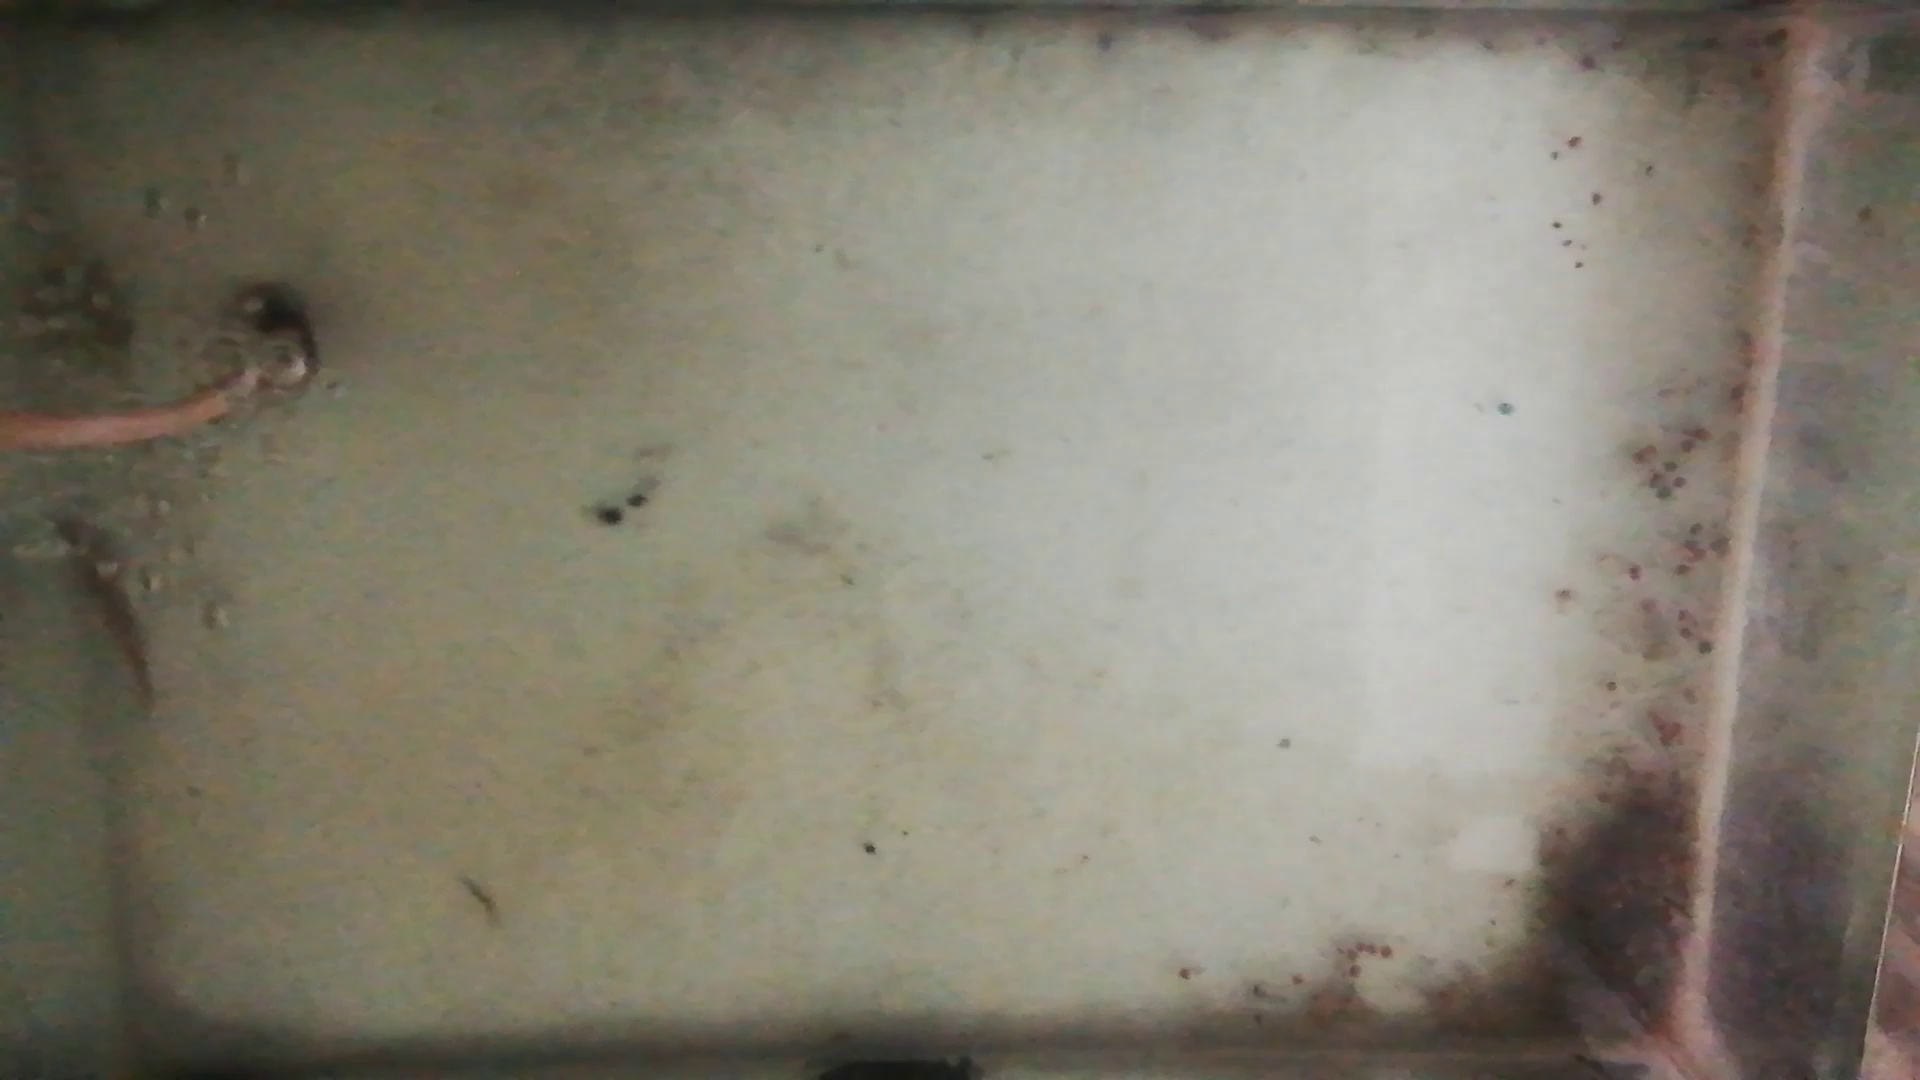fish: (46, 512, 167, 703), (32, 239, 132, 365)
